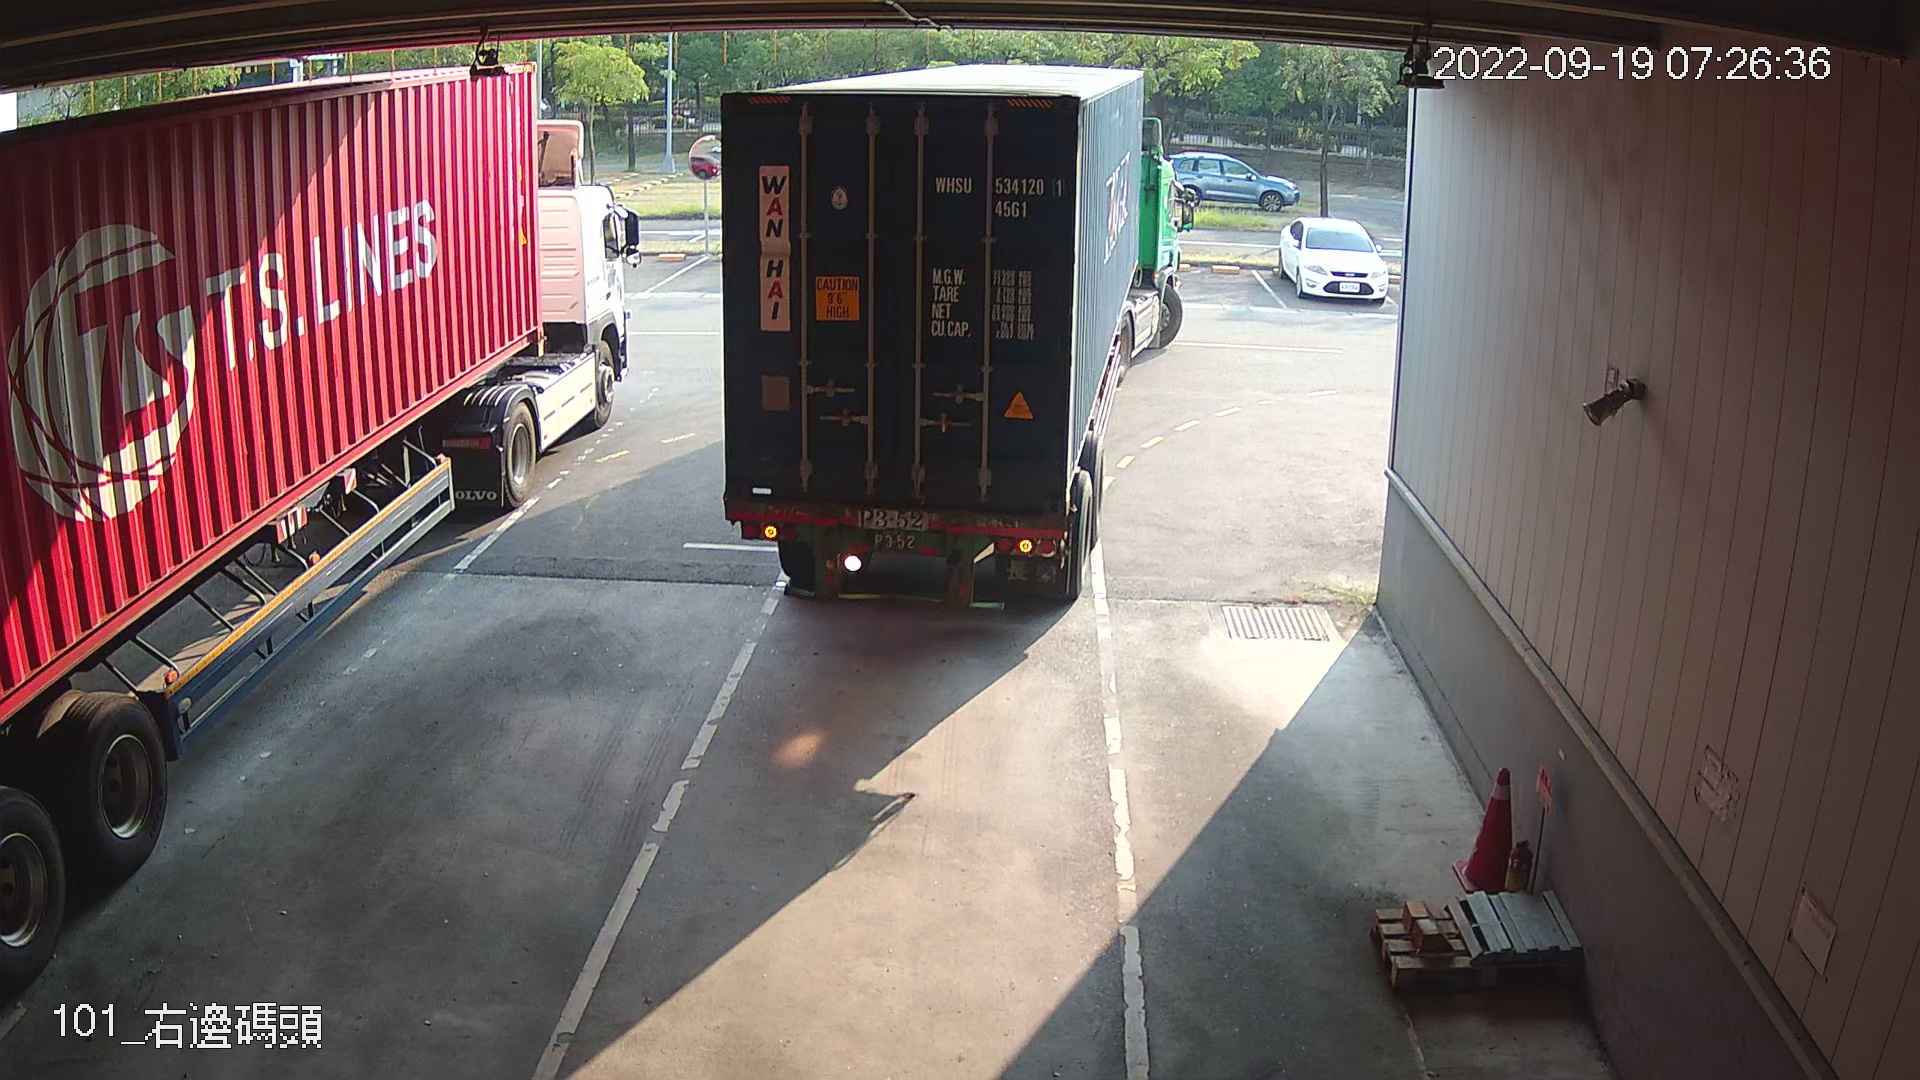container: (928, 165, 1069, 233)
